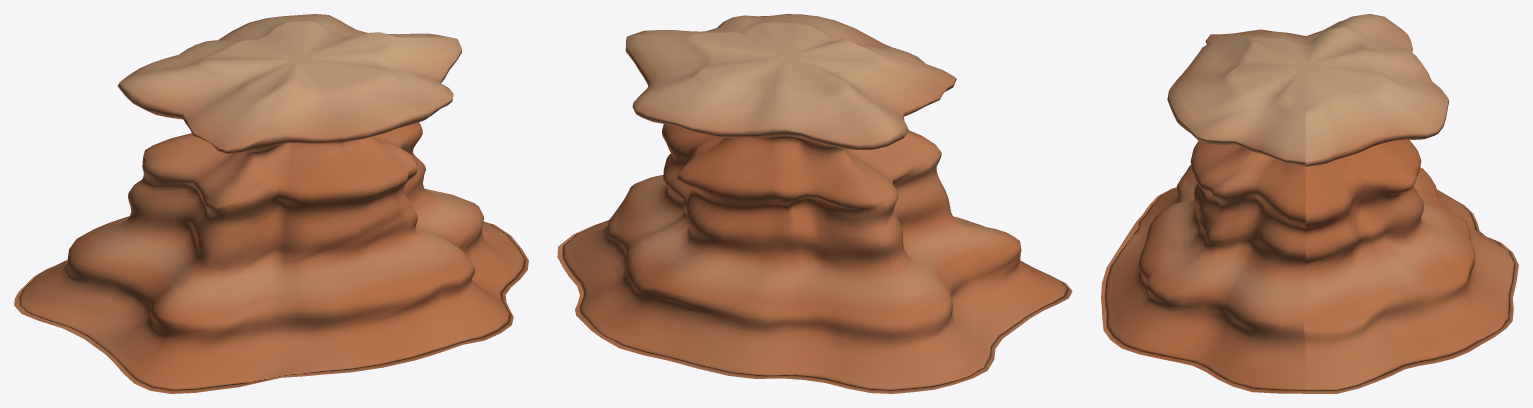
File: hoodoo-low.glb
3 views of the same model, side by side, from view 1: azimuth 30°, elevation 25°; view 2: azimuth 150°, elevation 25°; view 3: azimuth 270°, elevation 25° (orthographic).
Parts seen in each view (by area): view 1: hoodoo-low; view 2: hoodoo-low; view 3: hoodoo-low.
Boxes of the visible parts, box(x1,y1,x2,y2) form: hoodoo-low: box(14, 14, 528, 393); hoodoo-low: box(557, 14, 1072, 393); hoodoo-low: box(1101, 14, 1518, 393).
Bounding box in the file's own units: 18.51 × 9.33 × 15.04.
